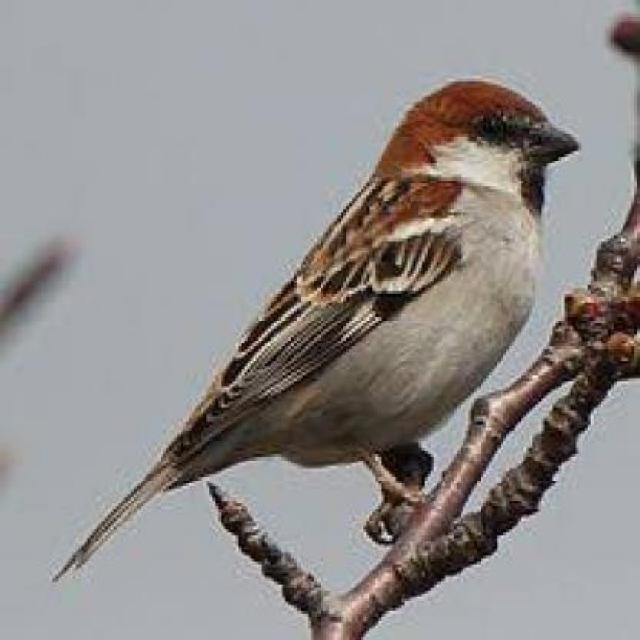sparrow: (53, 80, 578, 571)
